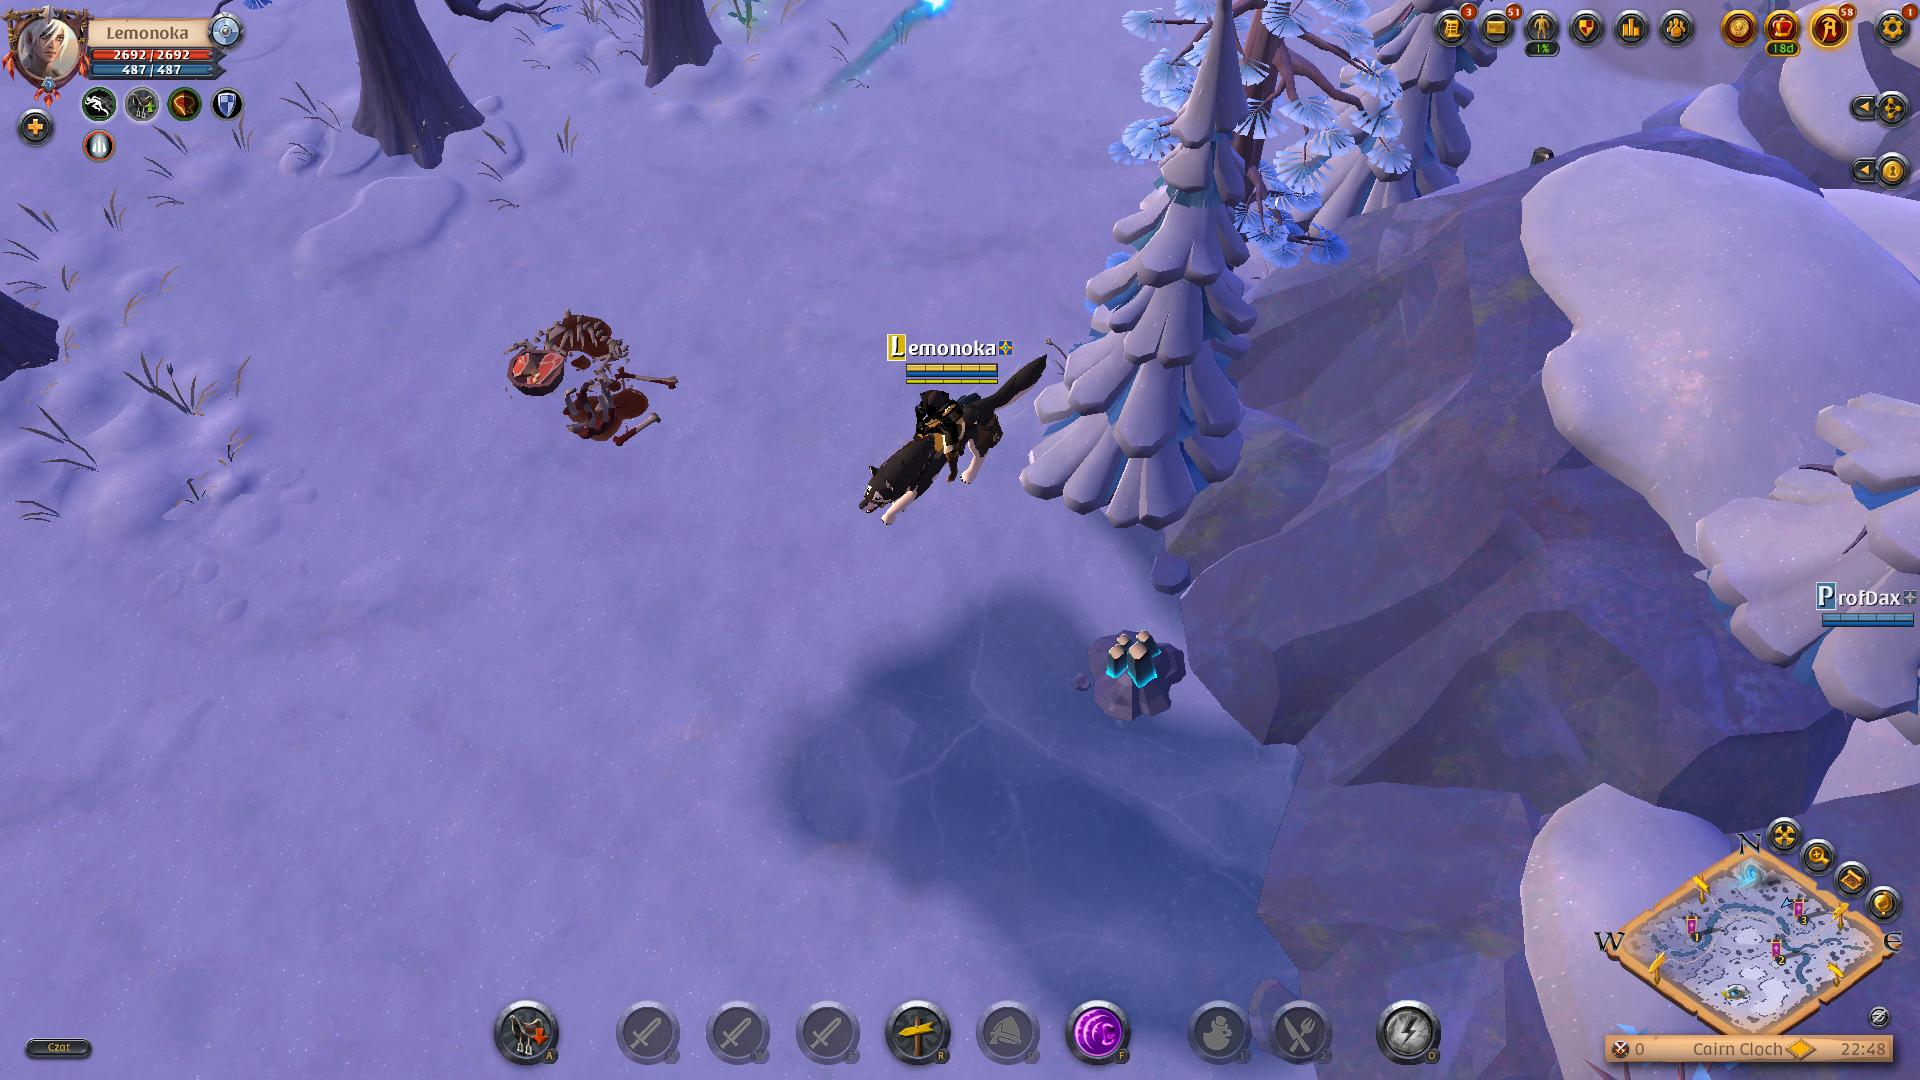ore tier 4: (1081, 626, 1192, 738)
